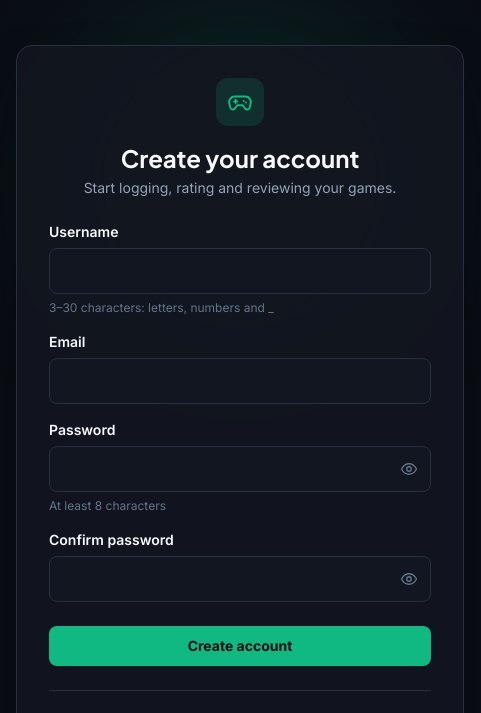
Test: RegisterView › shows a registered email under the email field
Type "new_player" into the field labelled "Username" at (240, 271), box top-left (49, 248), bottom-right (431, 294)
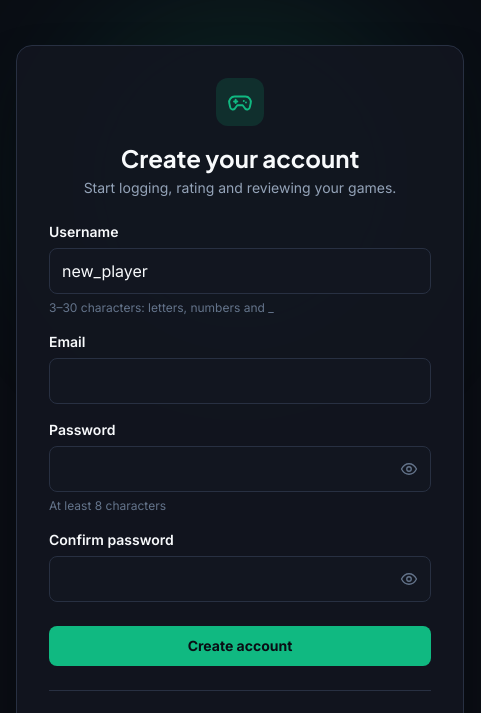
Type "player@mail.com" into the field labelled "Email" at (240, 381), box top-left (49, 358), bottom-right (431, 404)
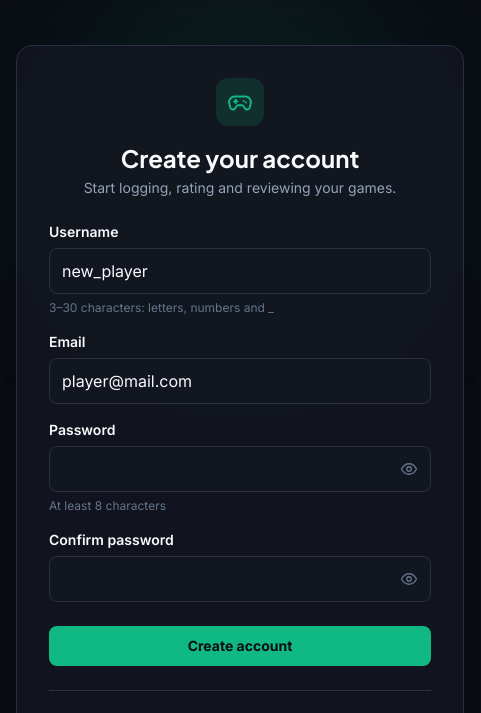
Type "secret123" into the password field labelled "Password" at (240, 469), box top-left (49, 446), bottom-right (431, 492)
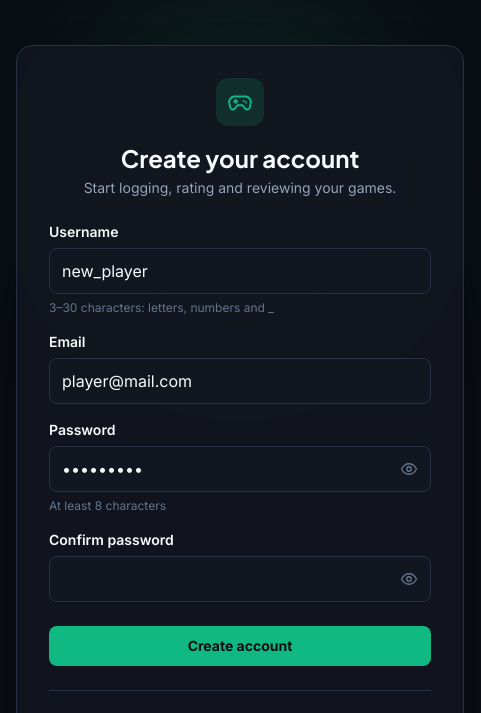
Type "secret123" into the password field labelled "Confirm password" at (240, 579), box top-left (49, 556), bottom-right (431, 602)
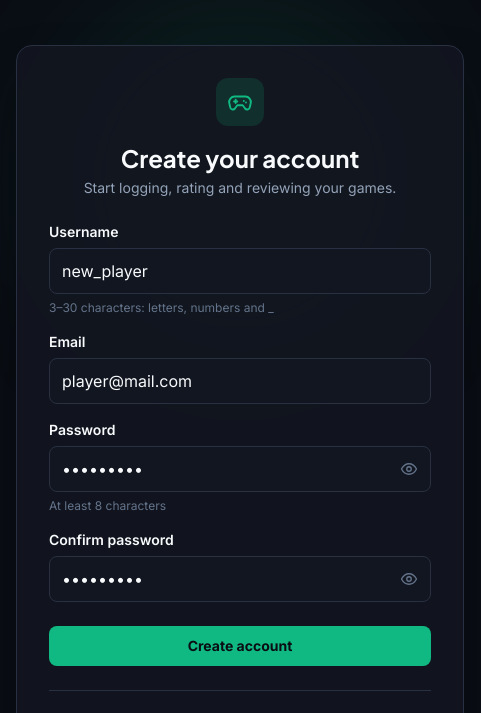
Submit the form, box top-left (49, 222), bottom-right (431, 666)
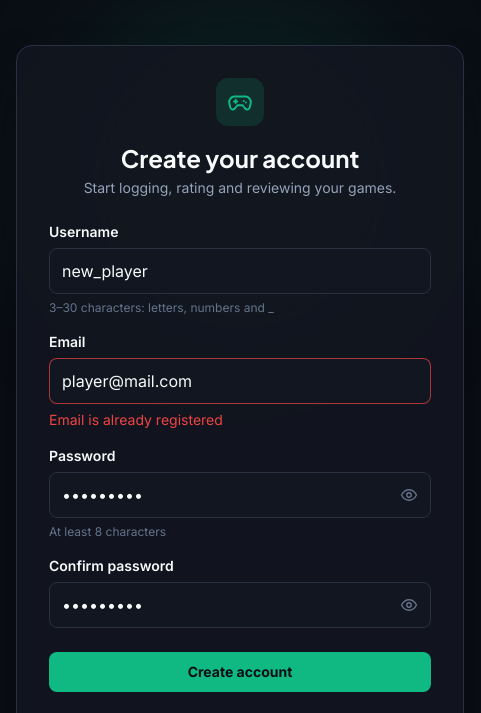
Check: the text "Email is already registered" is shown, box top-left (49, 411), bottom-right (223, 428)
